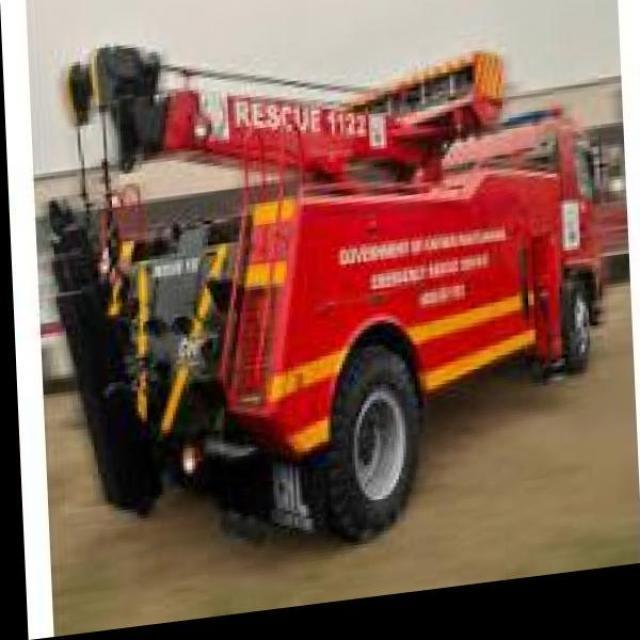emergency: (47, 41, 608, 545)
